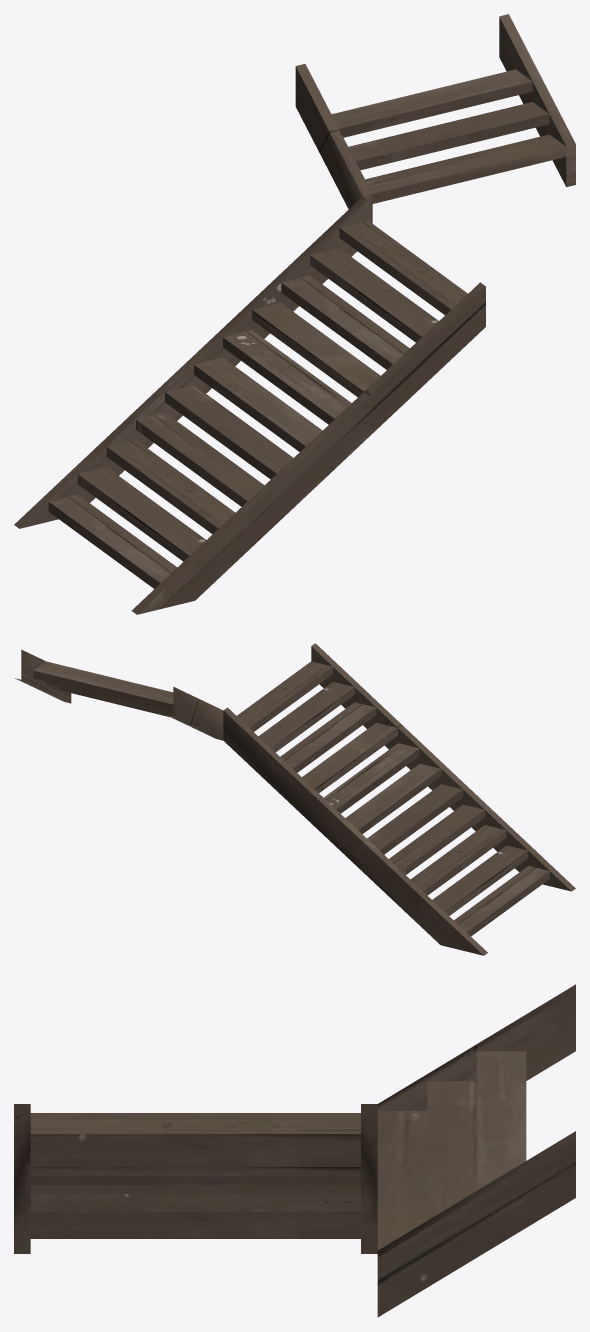
The picture shows the model from 3 angles, top to bottom: view 1: azimuth 30°, elevation 25°; view 2: azimuth 150°, elevation 25°; view 3: azimuth 270°, elevation 25°; orthographic projection. The views are drawn at different scales.
Parts seen in each view (by area): view 1: body0_model0_lod0_mesh0; view 2: body0_model0_lod0_mesh0; view 3: body0_model0_lod0_mesh0.
Part boxes in pixels (x1=…): body0_model0_lod0_mesh0: x1=14, y1=14, x2=575, y2=614; body0_model0_lod0_mesh0: x1=15, y1=643, x2=575, y2=955; body0_model0_lod0_mesh0: x1=14, y1=984, x2=575, y2=1317.
Size of the model in its own units: 232 by 128 by 136.
Materials: 1 (1 with a texture image).
